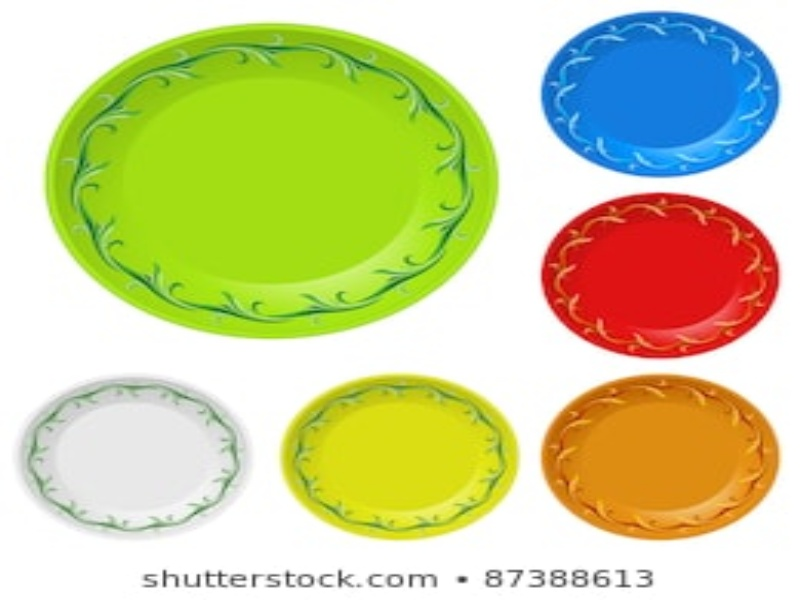plastic-plate: (43, 20, 500, 337), (539, 11, 781, 179), (539, 190, 781, 358), (539, 371, 781, 539), (279, 372, 521, 540), (18, 373, 249, 539)
